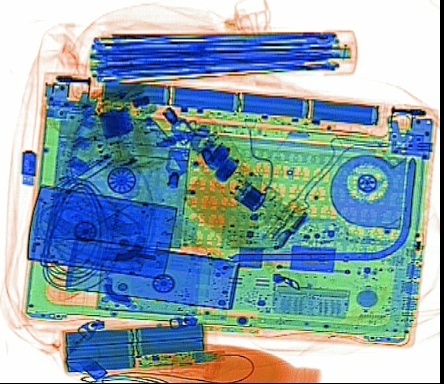powerbank: (56, 319, 207, 376)
